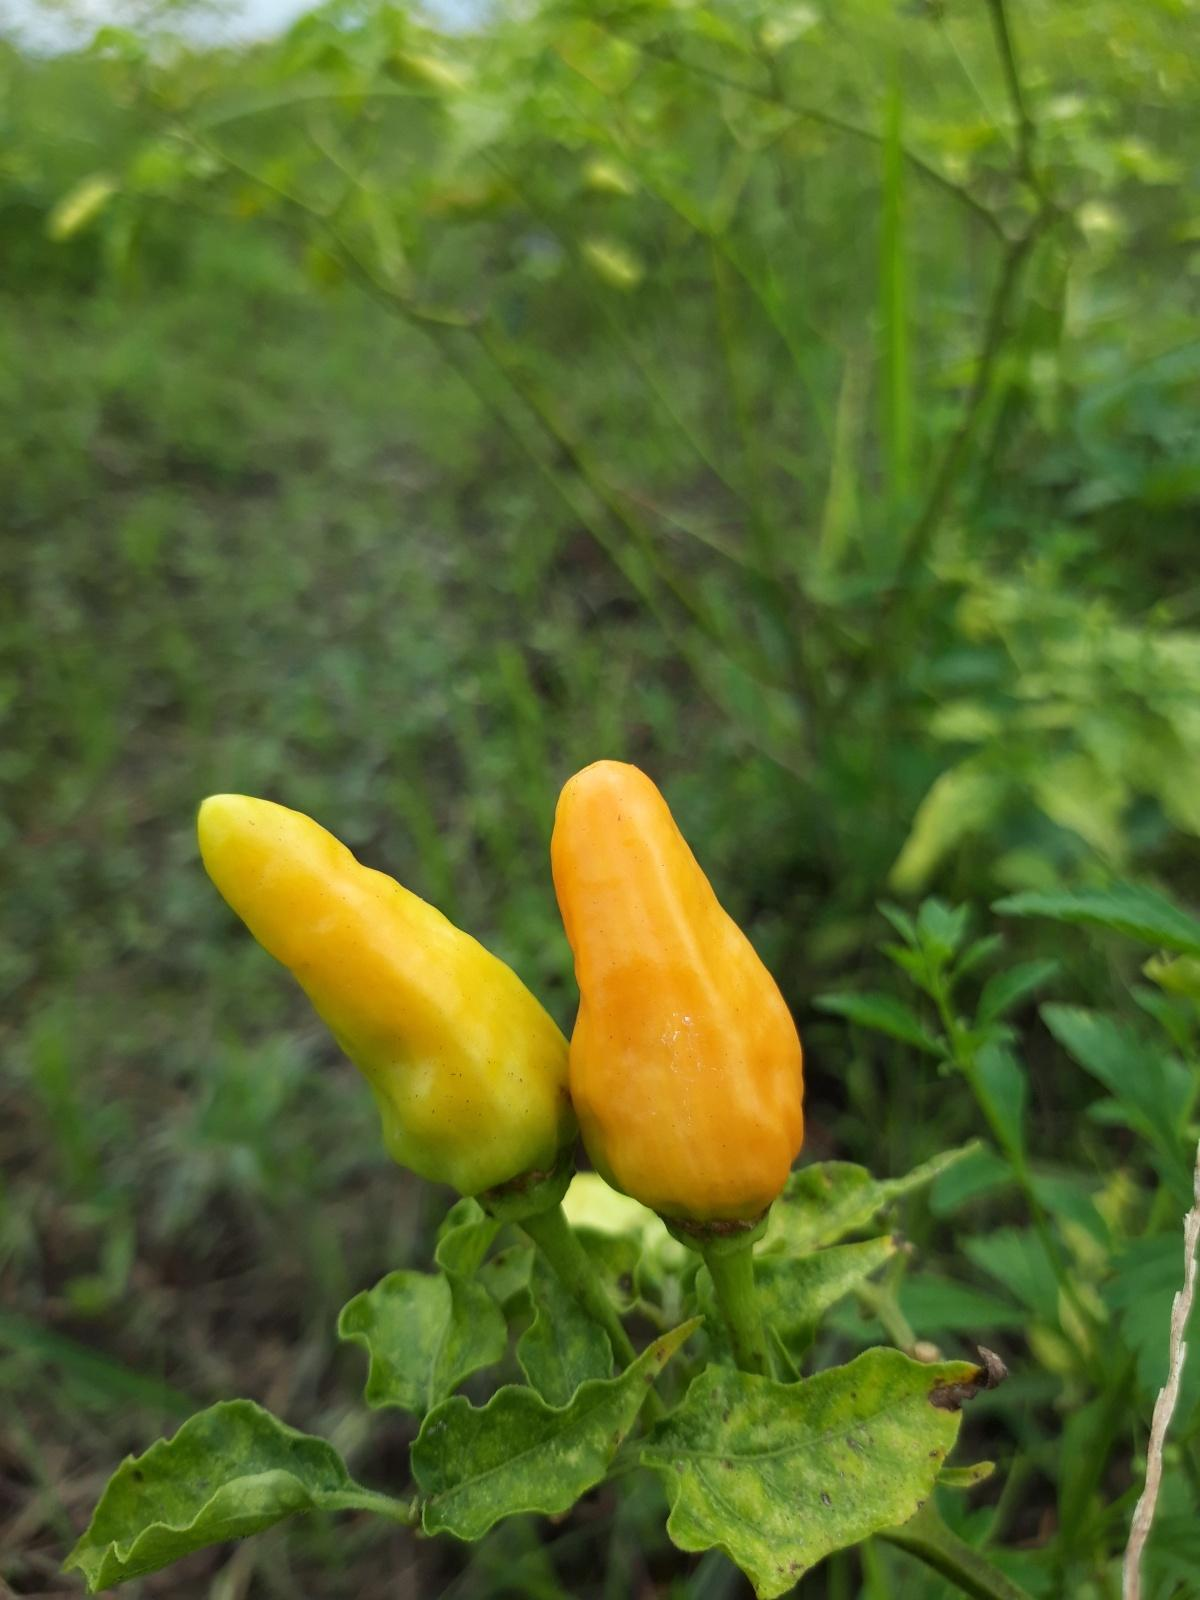cabai_normal: (195, 795, 572, 1192), (548, 760, 811, 1228)
